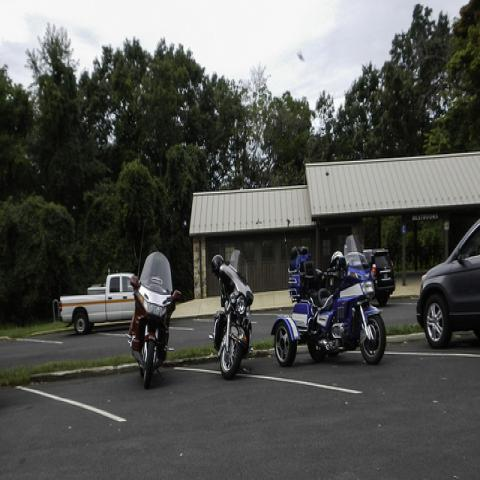car: (416, 215, 479, 352), (60, 274, 135, 332), (363, 250, 396, 307)
motorcycle: (308, 239, 389, 364), (125, 252, 181, 389), (213, 250, 254, 377)
truck: (60, 274, 137, 335)
